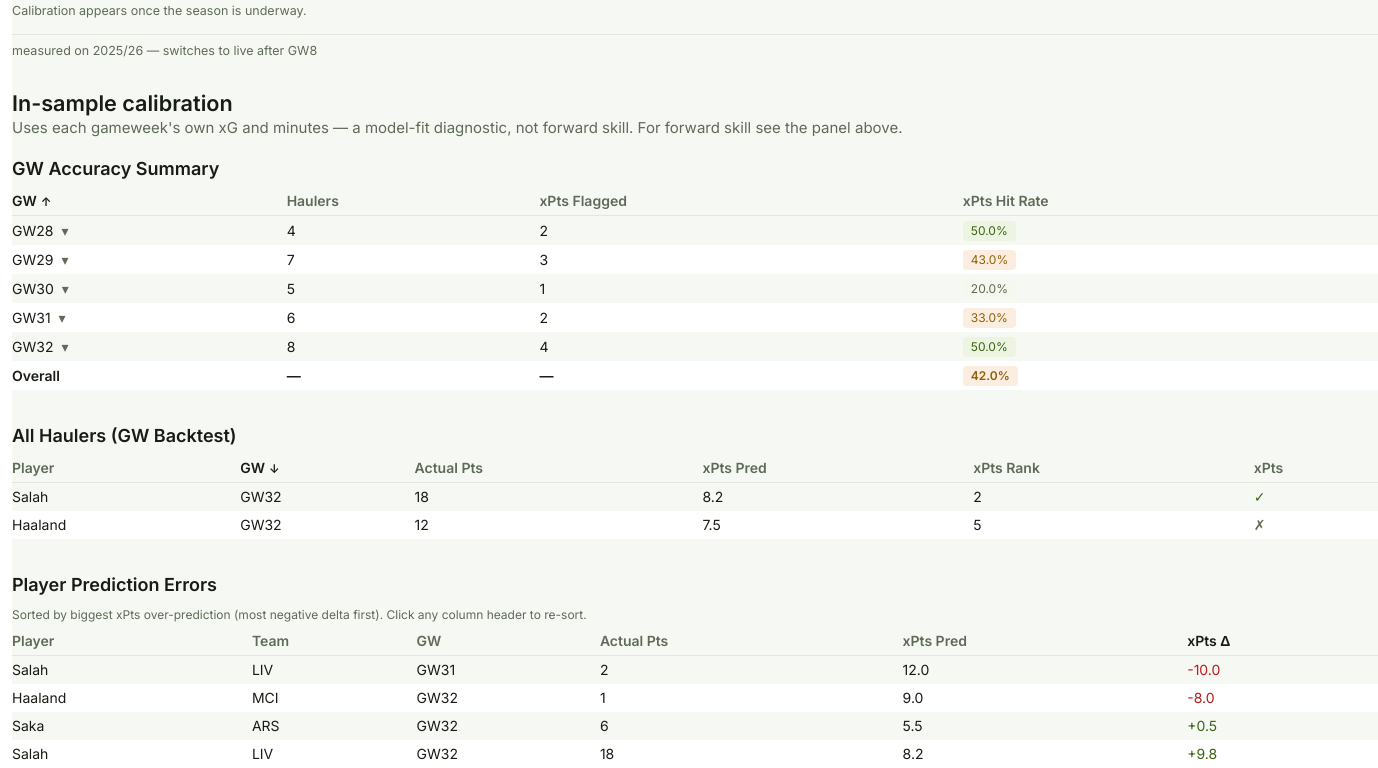
Scenario: Phase 41: AccuracyTab component › ACC-04: clicking xPts Δ header toggles sort direction; clicking a different header switches sort key
(page scrolled)
Click the column heading "xPts Δ".
click(1283, 643)  # box 1187,631 -> 1377,656
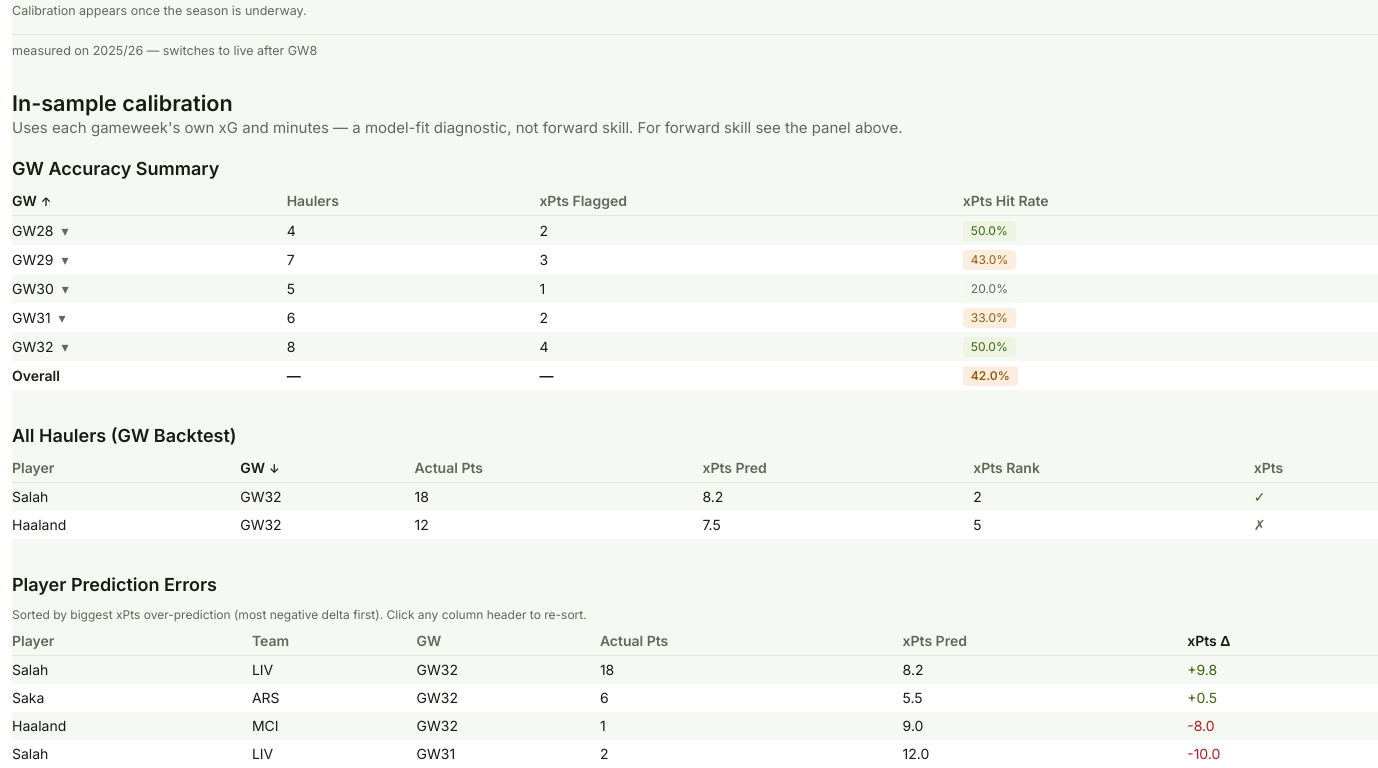
Expected: the row "Salah LIV GW32 18 8.2 +9.8" is shown, 12,656 -> 1377,684
Click the column heading "Actual Pts" in the row of "Team".
click(751, 643)  # box 600,631 -> 903,656
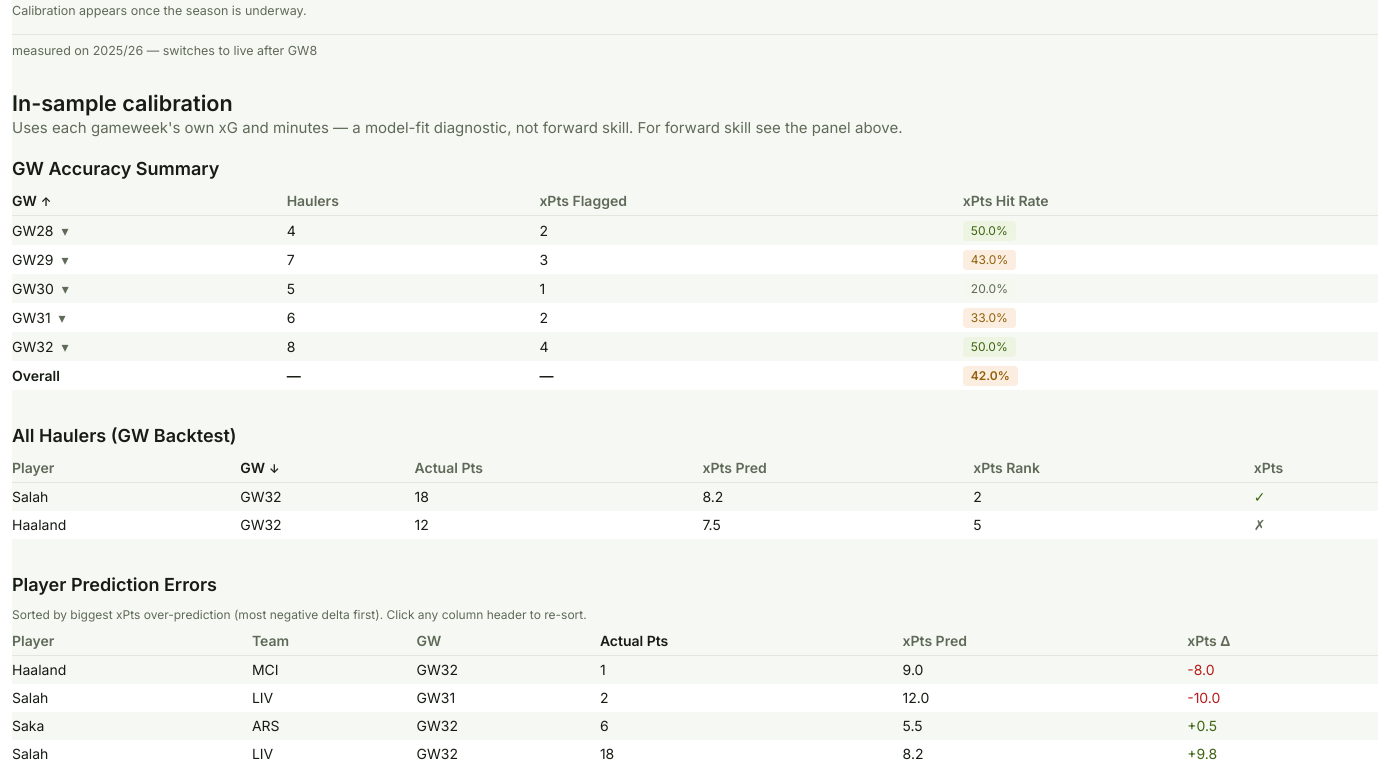
Now the row "Haaland MCI GW32 1 9.0 -8.0" is shown, box 12,656 -> 1377,684
